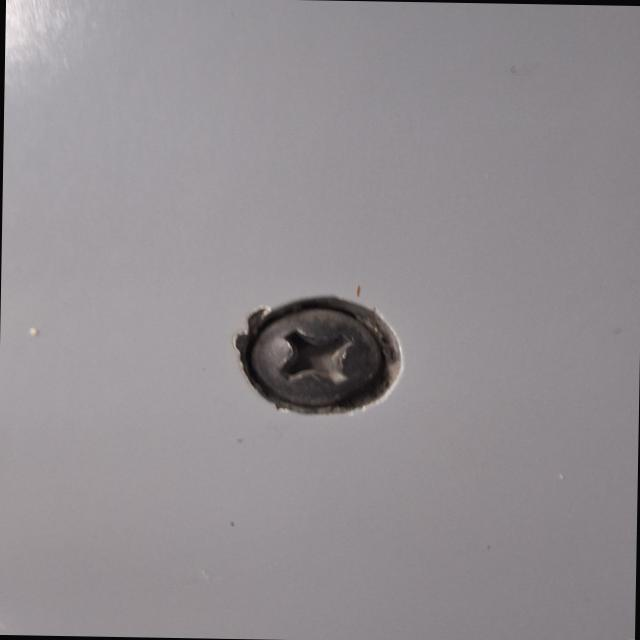Phillips: (212, 290, 401, 428)
